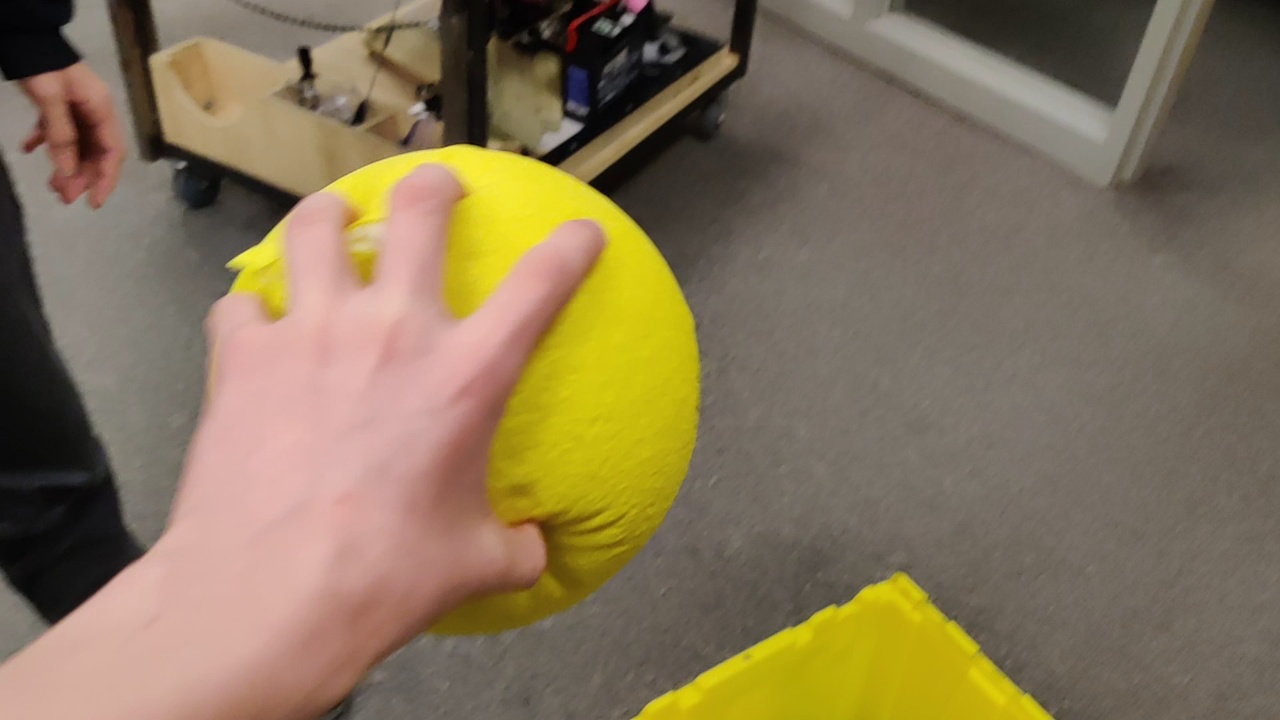Ball: (494, 141, 708, 523)
